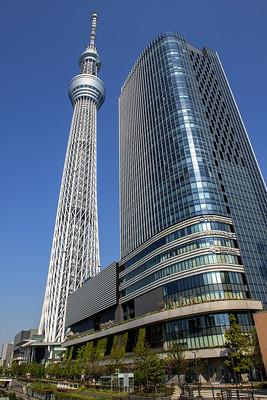building: (114, 28, 267, 400)
